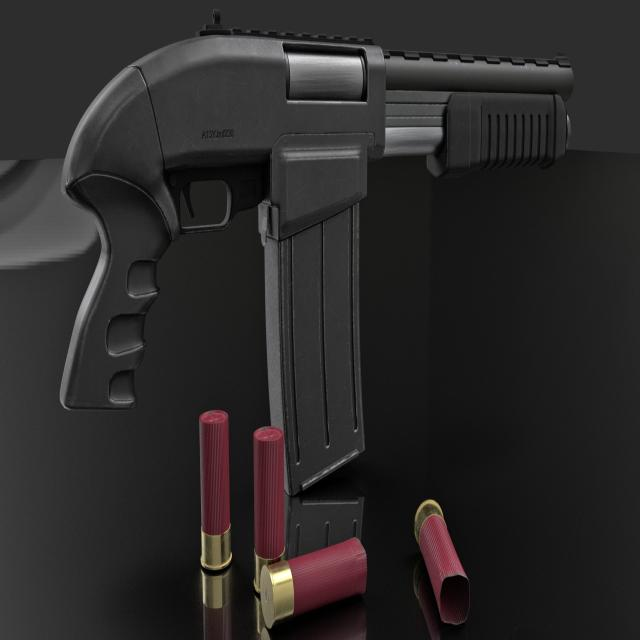ShotGun: (60, 36, 575, 414)
